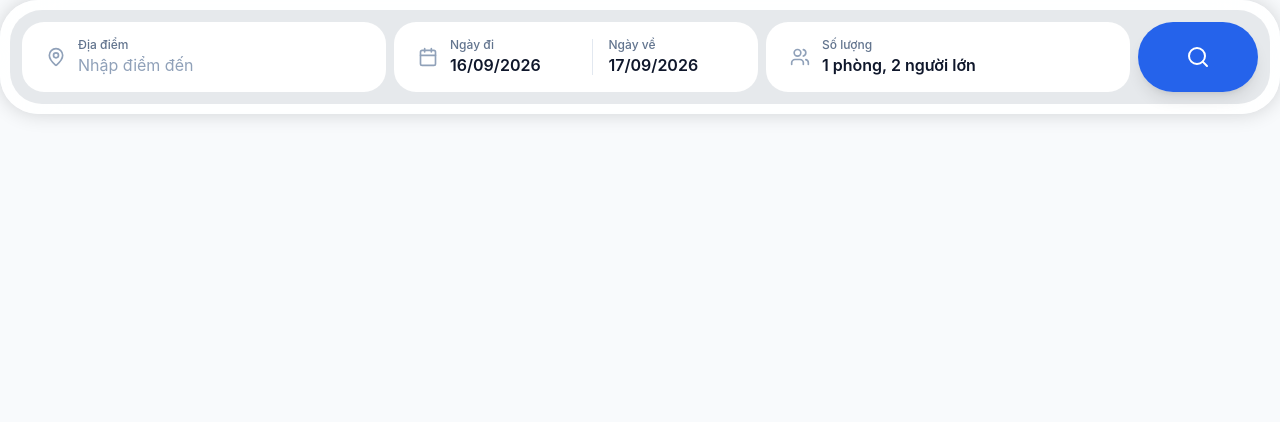
Test: LandingSearchSheet › hotels: typing filters famous hotels by name or city and offers matching destinations
Type "da" into the dropdown at (220, 65), box [78,53,362,77]
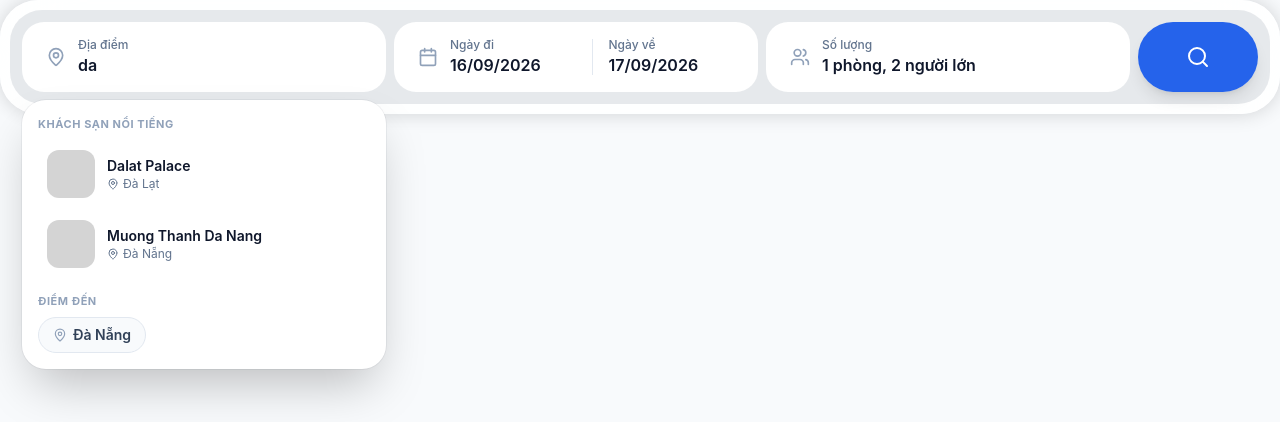
Now the number of options "Dalat Palace Đà Lạt" is 2, box [38,140,366,206]; [38,210,366,276]
Now the option "Đà Nẵng" is shown, box [38,317,146,353]
